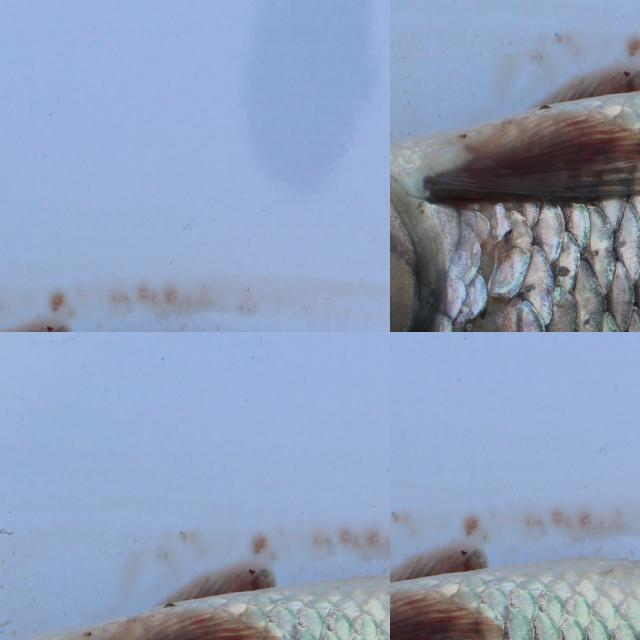fish: (390, 478, 640, 640)
